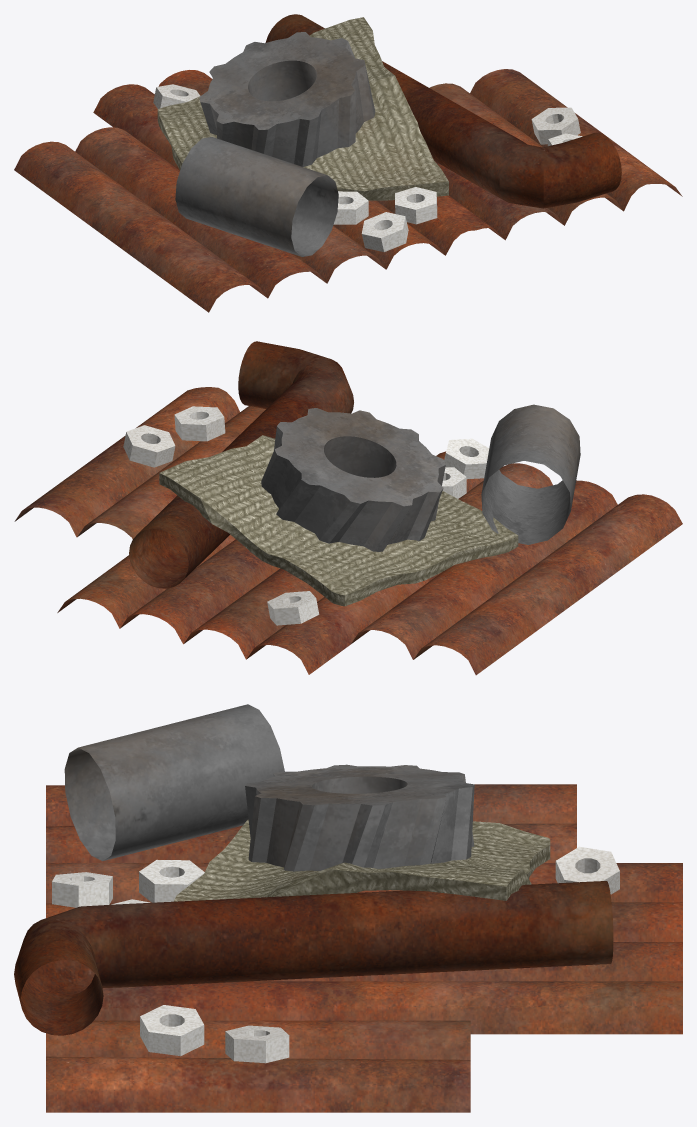
Rendered from rust_scrap_v2.glb.
3 renders of one model, top to bottom at view 1: azimuth 30°, elevation 25°; view 2: azimuth 150°, elevation 25°; view 3: azimuth 270°, elevation 25°, orthographic. The views are drawn at different scales.
Parts seen in each view (by area): view 1: scrap_low.001; view 2: scrap_low.001; view 3: scrap_low.001.
Part boxes in pixels (box(x1,y1,x2,y2)): scrap_low.001: box(14, 14, 682, 312); scrap_low.001: box(14, 341, 682, 675); scrap_low.001: box(14, 704, 682, 1112).
Bounding box in the file's own units: 0.2006 × 0.0492 × 0.18.
1 material, 1 textured.
